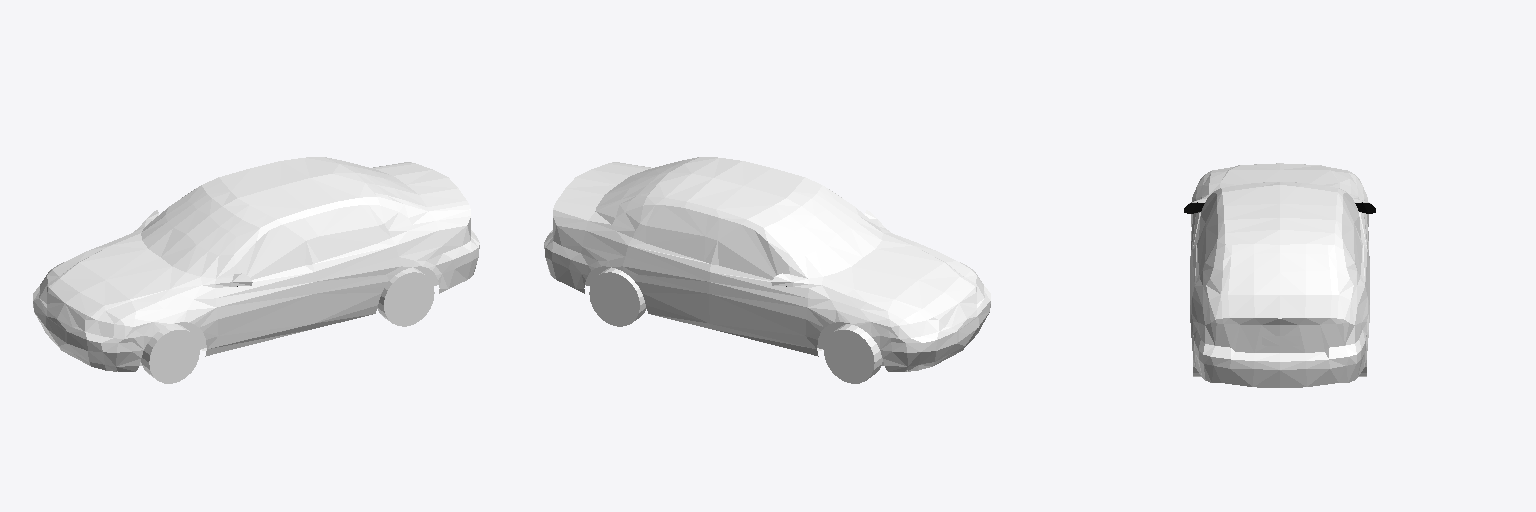
File: car.obj
The picture shows the model from 3 angles: view 1: azimuth 30°, elevation 25°; view 2: azimuth 150°, elevation 25°; view 3: azimuth 270°, elevation 25°; orthographic projection.
Parts seen in each view (by area): view 1: 05body, 05tyres, 05tyresurf; view 2: 05body, 05tyres, 05tyresurf; view 3: 05body.
Part boxes in pixels (left/top/right/bottom): 05body: left=33, top=157, right=479, bottom=371; 05tyres: left=149, top=272, right=434, bottom=383; 05tyresurf: left=141, top=267, right=424, bottom=380; 05body: left=544, top=157, right=990, bottom=371; 05tyres: left=589, top=267, right=874, bottom=383; 05tyresurf: left=599, top=267, right=882, bottom=380; 05body: left=1184, top=163, right=1375, bottom=387.
Size of the model in its own units: 4.83 by 1.49 by 2.